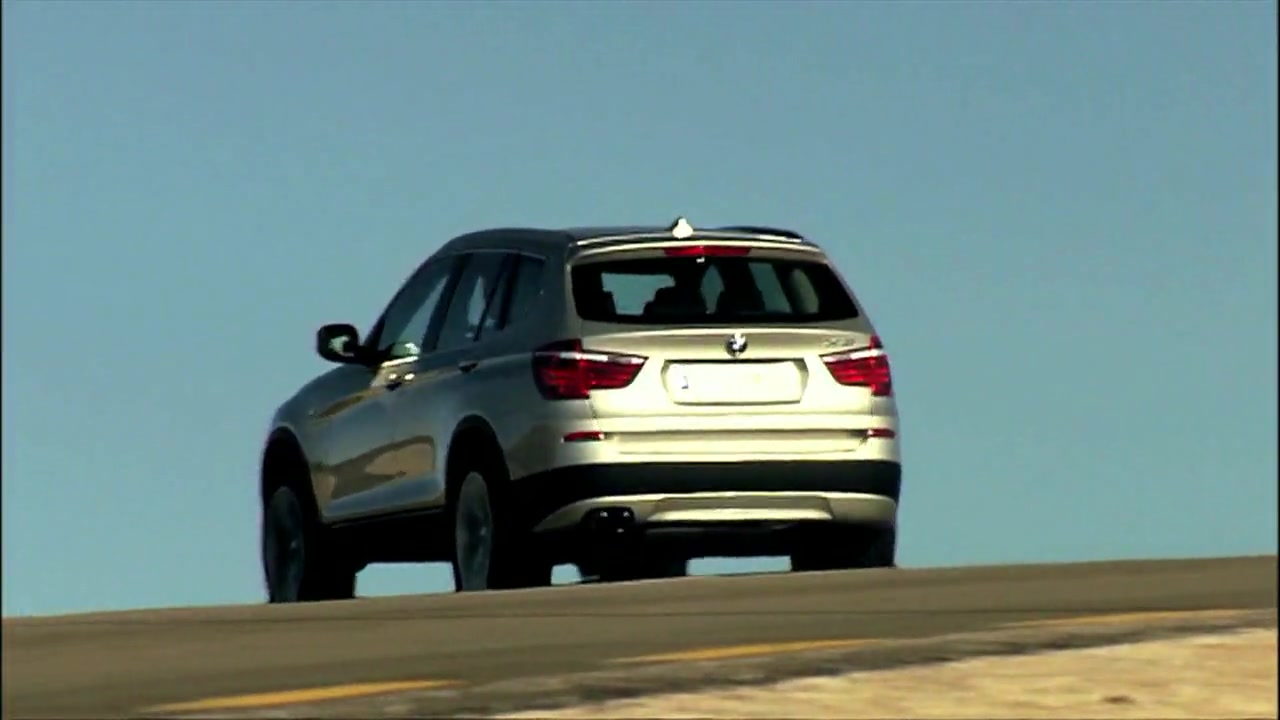car: (261, 211, 907, 607)
